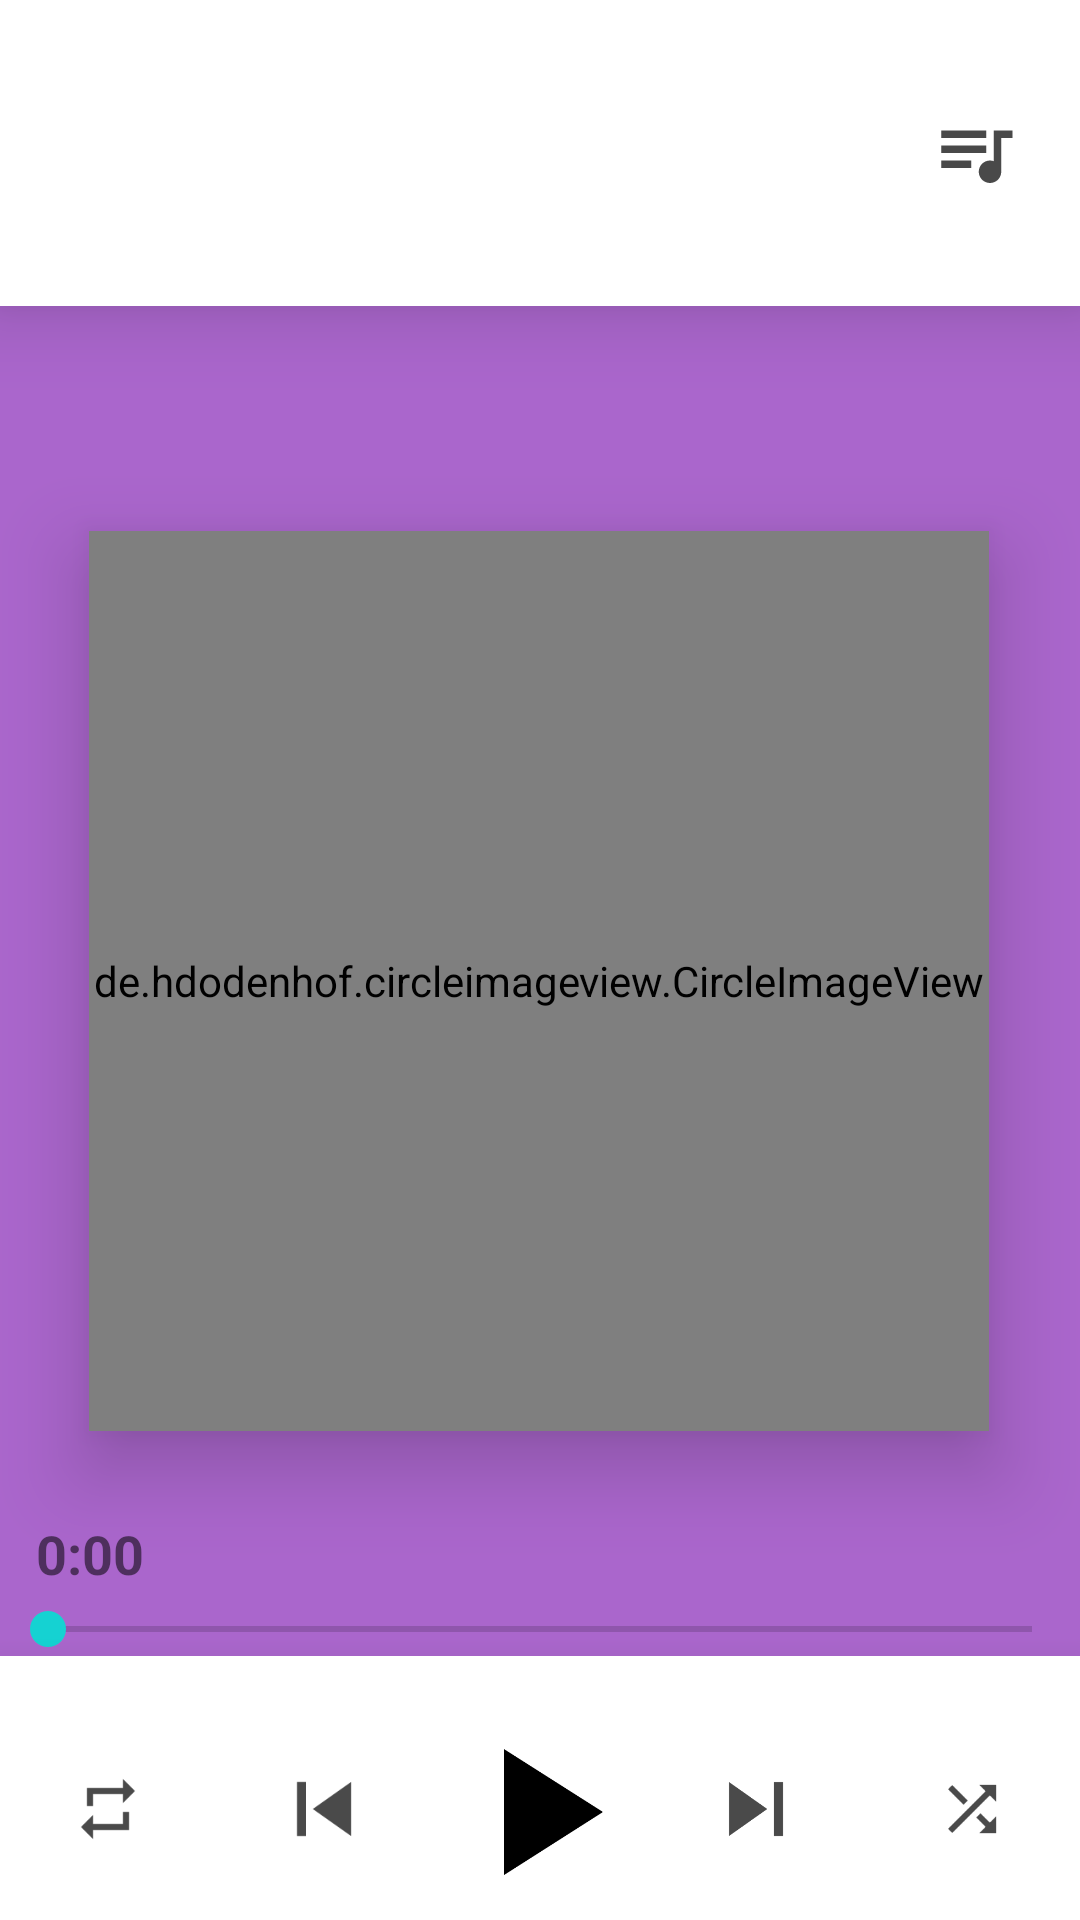

Where to tap for icons on this 1080w x 1920h app screen, as point (x, y):
play: point (553, 1812)
queue music: point (977, 156)
repeat: point (108, 1809)
shuffle: point (972, 1809)
skip next: point (756, 1809)
skip previous: point (324, 1809)
